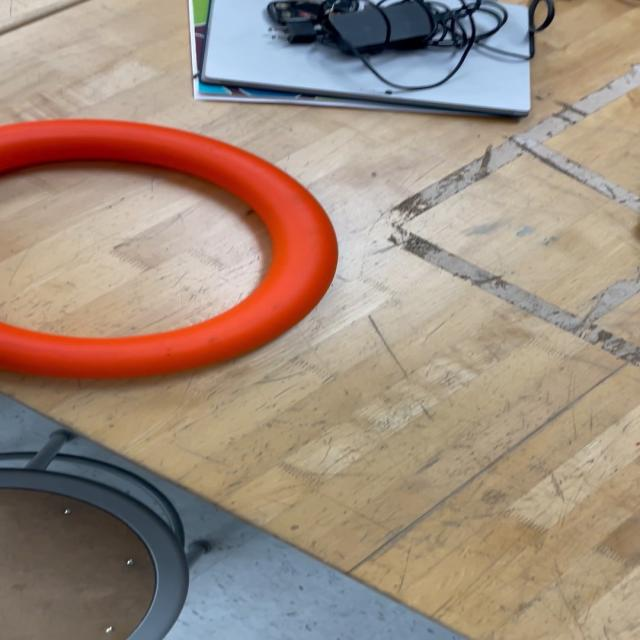note: (0, 118, 340, 382)
